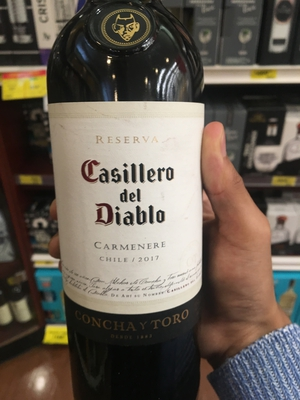casillero del diablo carmenere: (38, 28, 220, 400)
